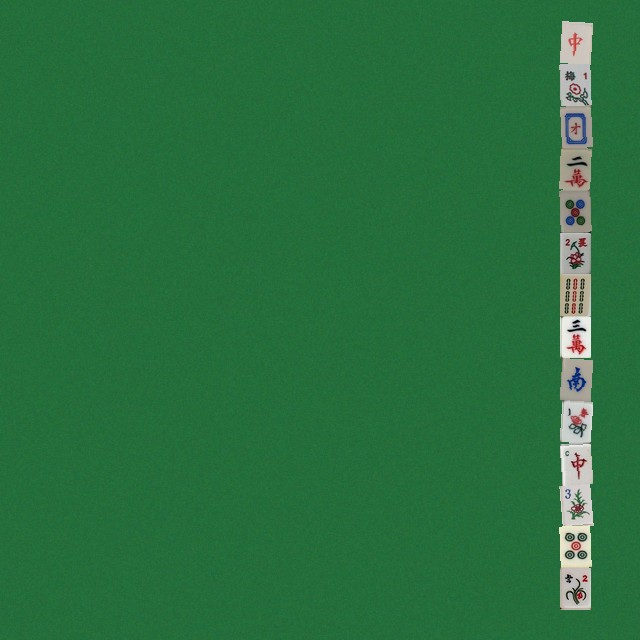tile: (559, 21, 590, 63), (559, 63, 590, 105), (559, 105, 590, 147), (559, 147, 590, 189), (559, 189, 590, 231), (559, 231, 590, 273), (559, 273, 590, 315), (559, 315, 590, 357), (559, 357, 590, 399), (559, 399, 590, 441), (559, 441, 590, 483), (559, 483, 590, 525), (559, 525, 590, 567), (559, 567, 590, 609)
